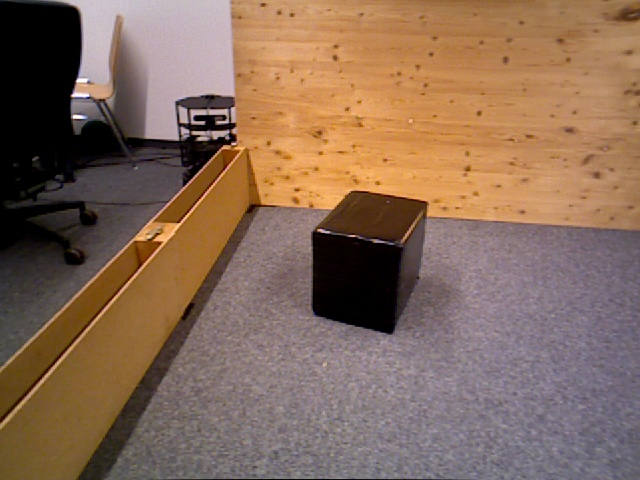push: (313, 190, 429, 335)
